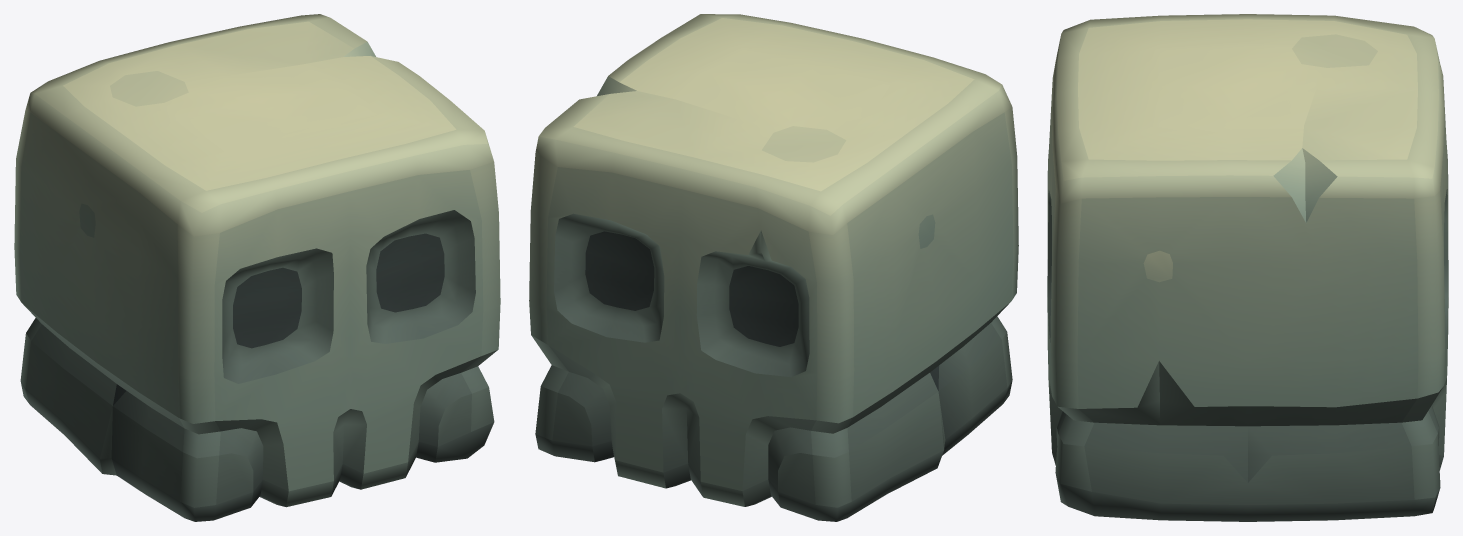
Rendered from block_stone1_6_LOD_group.fbx.
3 renders of one model, left to right at view 1: azimuth 30°, elevation 25°; view 2: azimuth 150°, elevation 25°; view 3: azimuth 270°, elevation 25°, orthographic. The views are drawn at different scales.
Visible parts, largest first — view 1: block_stone1_6_LOD0; view 2: block_stone1_6_LOD0; view 3: block_stone1_6_LOD0.
Part boxes in pixels (left/top/right/bottom): block_stone1_6_LOD0: left=14, top=14, right=500, bottom=521; block_stone1_6_LOD0: left=529, top=14, right=1018, bottom=521; block_stone1_6_LOD0: left=1047, top=14, right=1448, bottom=521.
Size of what is drawn, in the model's own units: 110 by 109 by 109.
1 material, 1 textured.
